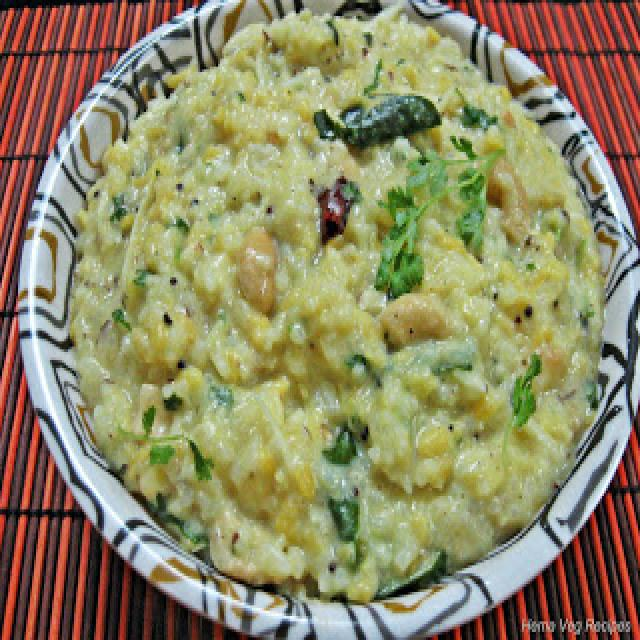khara pongal: (53, 0, 605, 625)
